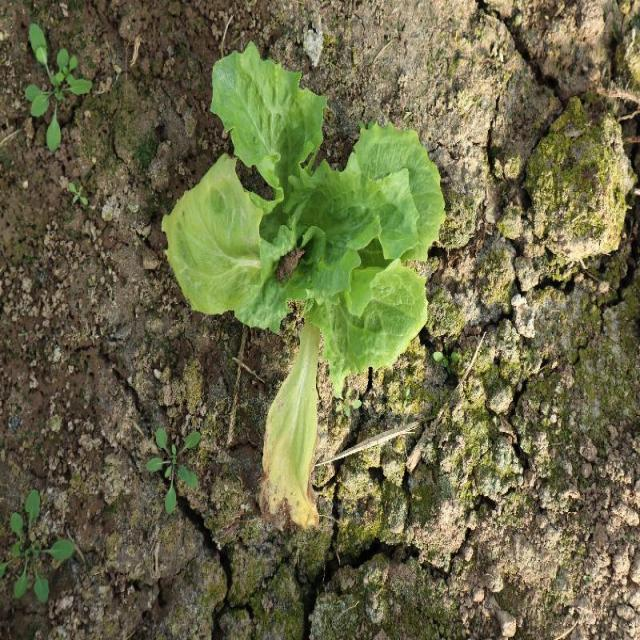crop: (160, 35, 447, 401)
